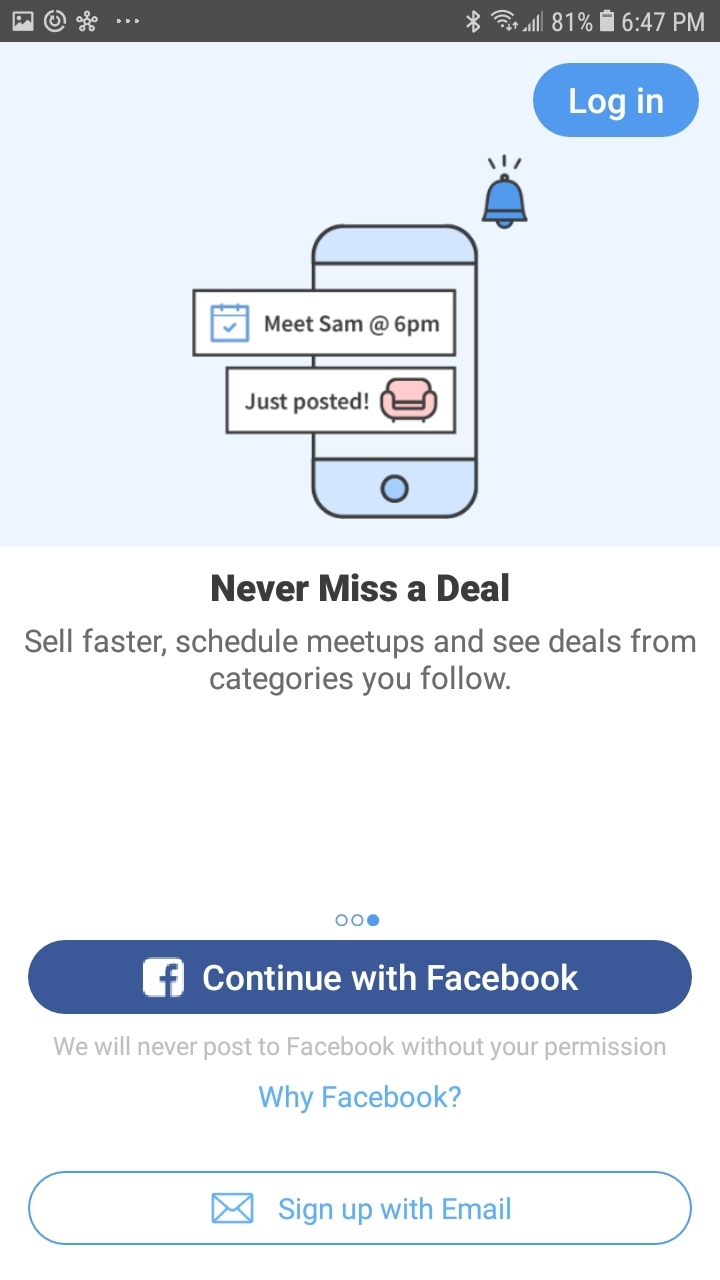Image: (192, 154, 529, 520)
PageIndicator: (336, 913, 381, 927)
Text: (25, 627, 696, 697), (54, 1035, 666, 1062), (212, 572, 510, 603), (259, 1084, 462, 1114)
TextButton: (29, 1170, 693, 1246), (28, 940, 692, 1015), (533, 63, 700, 139)
UpperTaskBar: (1, 1, 720, 43)
